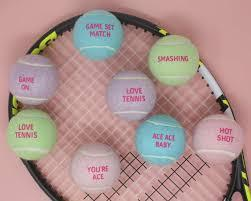ball_tennis: (9, 54, 59, 109), (134, 116, 186, 168), (70, 142, 121, 195), (74, 10, 124, 62), (106, 69, 156, 121), (193, 114, 245, 164), (7, 109, 57, 160), (149, 35, 200, 84)
